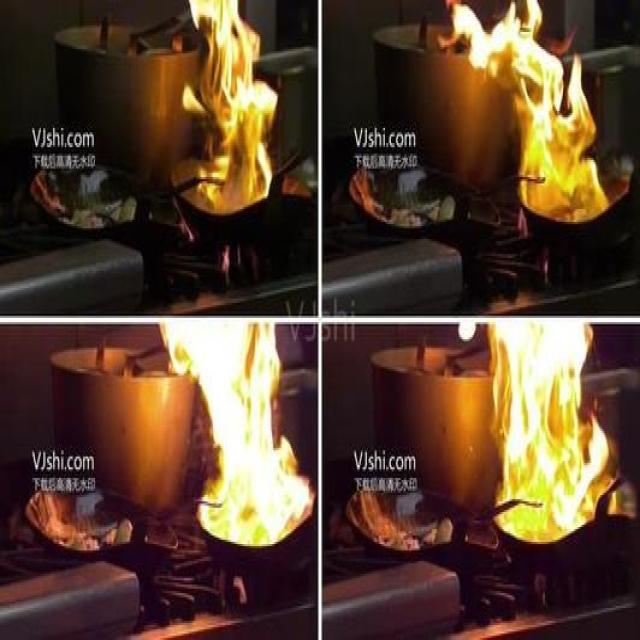fire: (447, 322, 640, 580), (142, 311, 321, 582), (439, 14, 626, 254), (172, 11, 312, 286)
